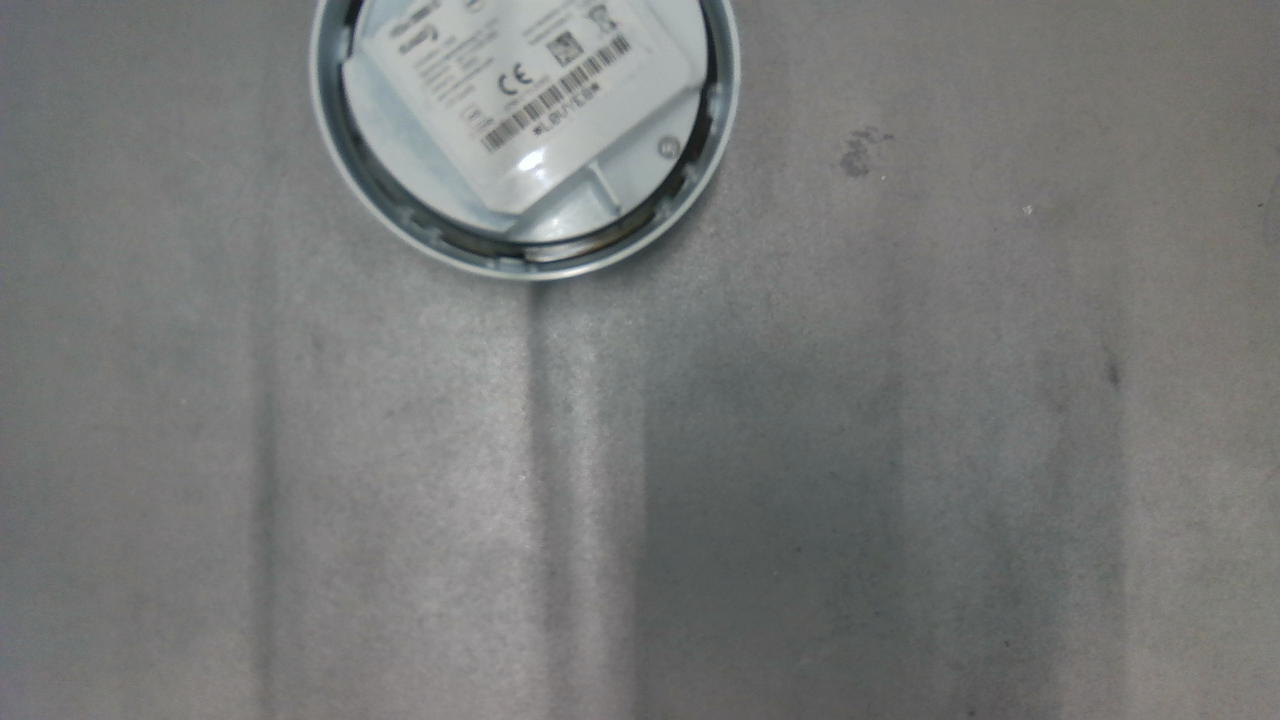HexScrew: (657, 136, 683, 161)
